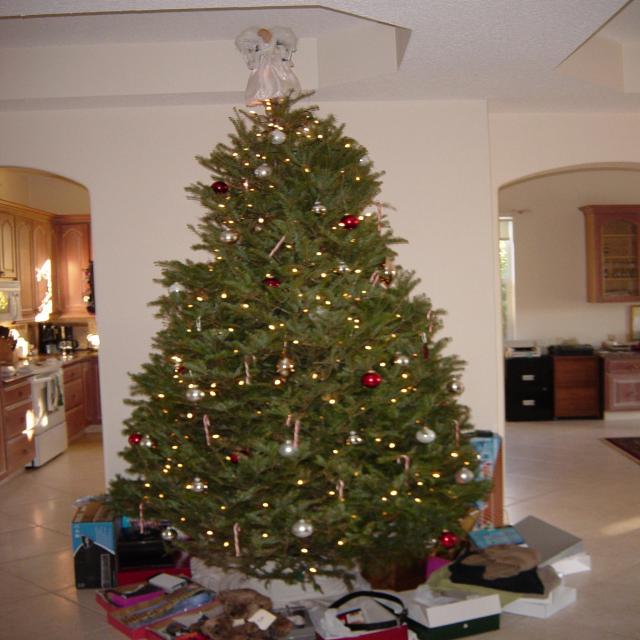Christmas-tree: (136, 97, 483, 550)
